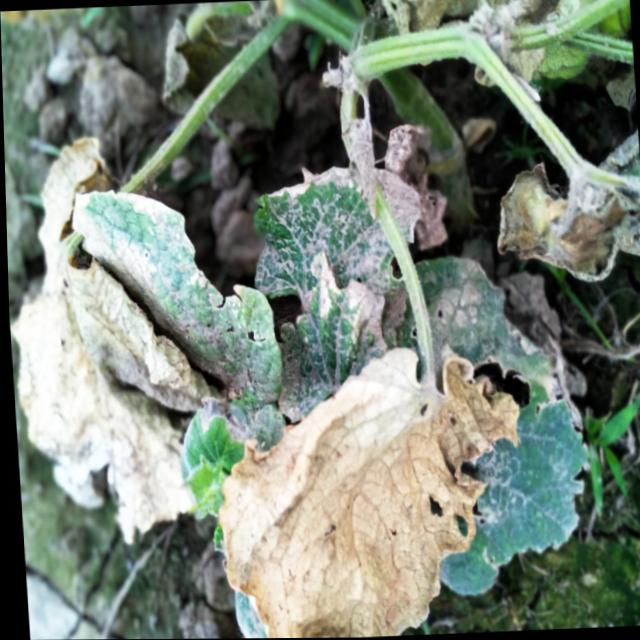Bacterial-Wilt: (212, 343, 522, 639), (494, 128, 640, 283)
